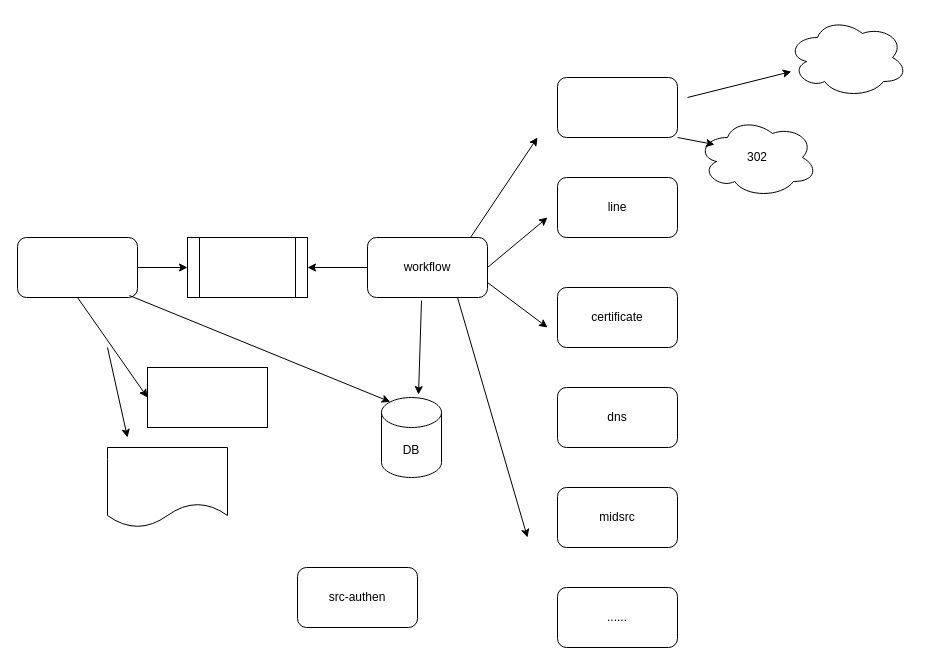
Some shapes in this 925 by 665 pixel diagram are drawn without their labels. Here are the shapes that lost their labels. From the top down, the centre of each, then its label:
At (617,107): "suppliers".
At (77,267): "API".
At (247,267): "MQ".
At (167,487): "ES".
